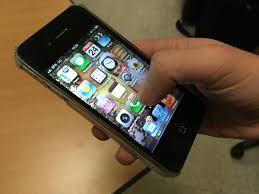iphone: (15, 2, 209, 180)
iphone4: (15, 2, 209, 181)
